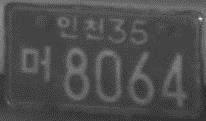0: (96, 49, 122, 101)
3: (106, 17, 128, 43)
4: (160, 53, 189, 107)
5: (130, 19, 148, 45)
6: (127, 50, 154, 104)
8: (63, 47, 91, 101)
머: (20, 45, 51, 79)
인천_O: (56, 15, 104, 41)
